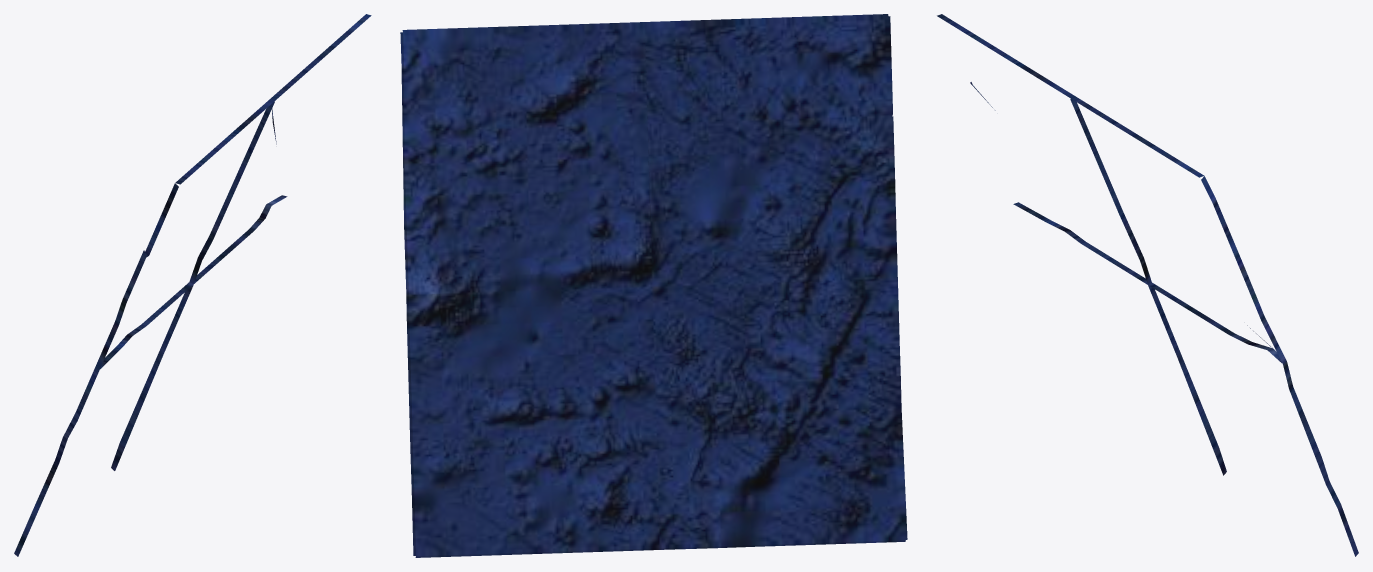
3 renders of one model, left to right at view 1: azimuth 30°, elevation 25°; view 2: azimuth 150°, elevation 25°; view 3: azimuth 270°, elevation 25°, orthographic. The views are drawn at different scales.
Bounding box in the file's own units: 154666 × 146566 × 132242.
Materials: 1 (1 with a texture image).
